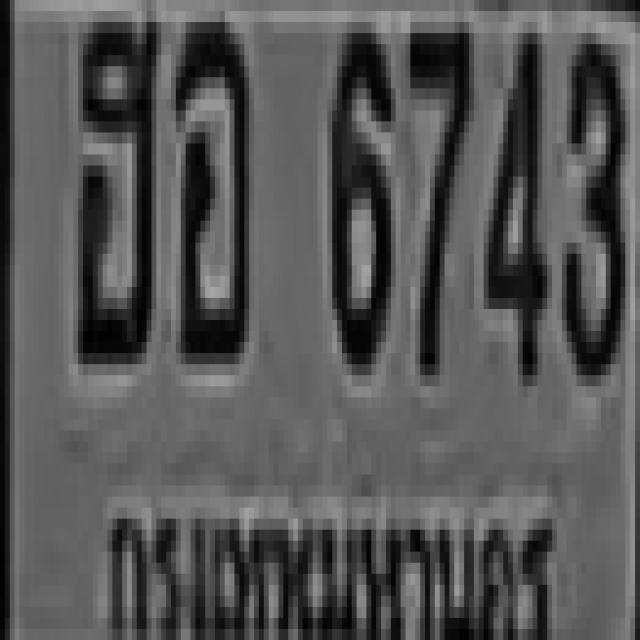3: (557, 22, 630, 385)
4: (479, 22, 551, 390)
52OrAng: (171, 16, 255, 368)
53HorNokHook: (71, 11, 166, 372)
6: (327, 16, 395, 378)
7: (405, 11, 473, 376)
Bangkok: (87, 467, 562, 640)
